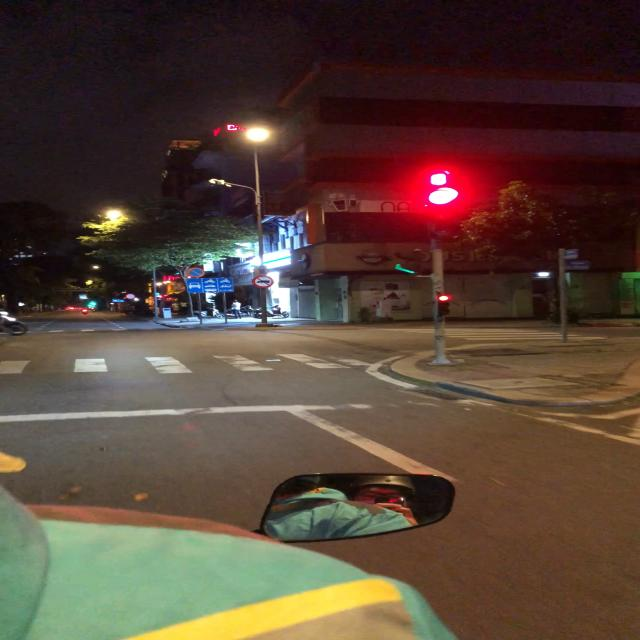Bien bao cam do xe: (183, 266, 210, 279)
Bien bao cam xe so-mi ro-mooc: (250, 274, 276, 288)
